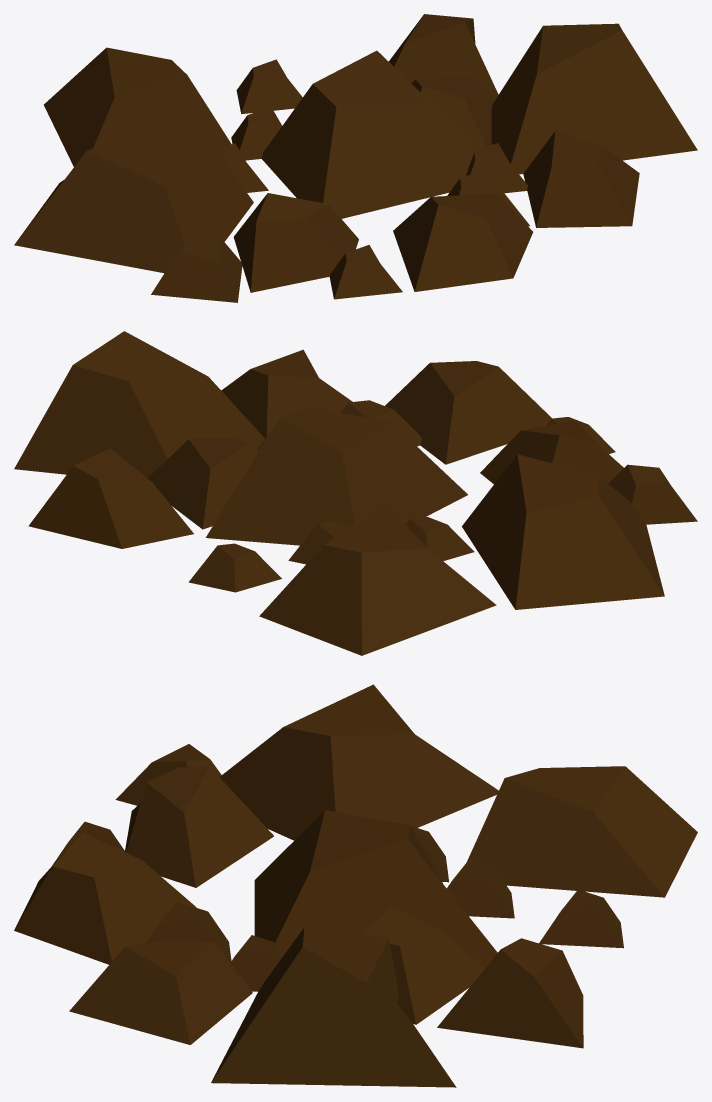
The model's file is Buuny Dust.fbx.
The picture shows the model from 3 angles, top to bottom: view 1: azimuth 30°, elevation 25°; view 2: azimuth 150°, elevation 25°; view 3: azimuth 270°, elevation 25°; orthographic projection. The views are drawn at different scales.
Parts seen in each view (by area): view 1: batu.003; view 2: batu.003; view 3: batu.003.
Part boxes in pixels (x1,y1,x2,y2): batu.003: (14, 14, 697, 302); batu.003: (14, 331, 697, 655); batu.003: (14, 684, 697, 1087).
Bounding box in the file's own units: 274 × 42.44 × 227.
